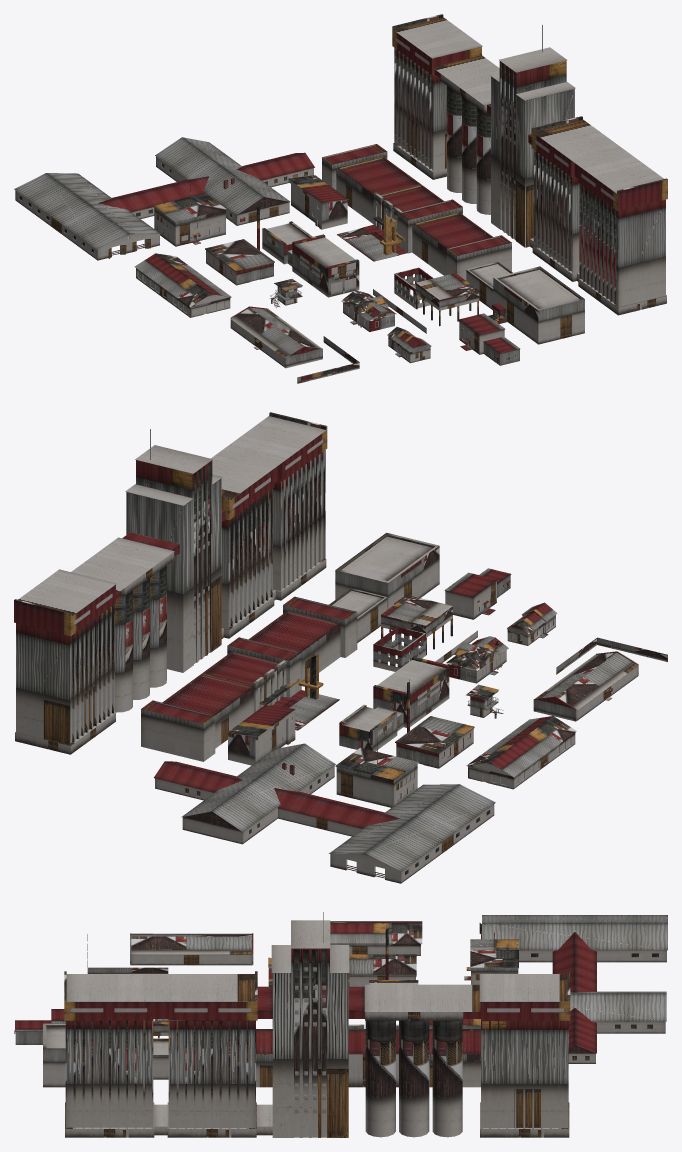
Rendered from pack-old-industrial-and-office-buildings.gltf.
The picture shows the model from 3 angles, top to bottom: view 1: azimuth 30°, elevation 25°; view 2: azimuth 150°, elevation 25°; view 3: azimuth 270°, elevation 25°; orthographic projection. The views are drawn at different scales.
Visible parts, largest first — view 1: Box019, Box001 (×9), Box047, Box002 (×2), Box005, Object002_01 - Default_0; view 2: Box019, Box001 (×9), Box047, Box002 (×2), Box005, Object002_01 - Default_0; view 3: Box019, Box047, Box001 (×6), Box005, Box002.
Boxes of the visible parts, x1,y1,x2,y2 form: Box019: (392, 14, 667, 315); Box001 (×9): (134, 144, 520, 365); Box047: (14, 137, 314, 260); Box002 (×2): (341, 262, 584, 344); Box005: (230, 306, 359, 383); Object002_01 - Default_0: (387, 327, 431, 363); Box019: (14, 412, 327, 754); Box001 (×9): (141, 568, 576, 807); Box047: (154, 743, 495, 883); Box002 (×2): (329, 532, 508, 683); Box005: (533, 637, 667, 721); Object002_01 - Default_0: (507, 602, 557, 645); Box019: (64, 912, 570, 1137); Box047: (479, 915, 667, 1063); Box001 (×6): (14, 921, 518, 1087); Box005: (87, 933, 253, 973); Box002: (43, 1023, 168, 1087).
Bounding box in the file's own units: 124 × 60.45 × 162.
Materials: 1 (1 with a texture image).
